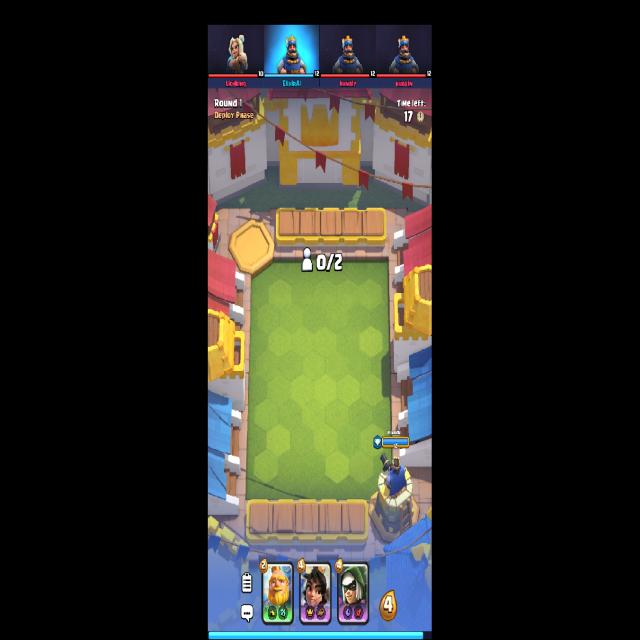card_bandit: (337, 561, 369, 625)
card_princess: (300, 562, 330, 624)
card_royal_giant: (262, 564, 294, 625)
